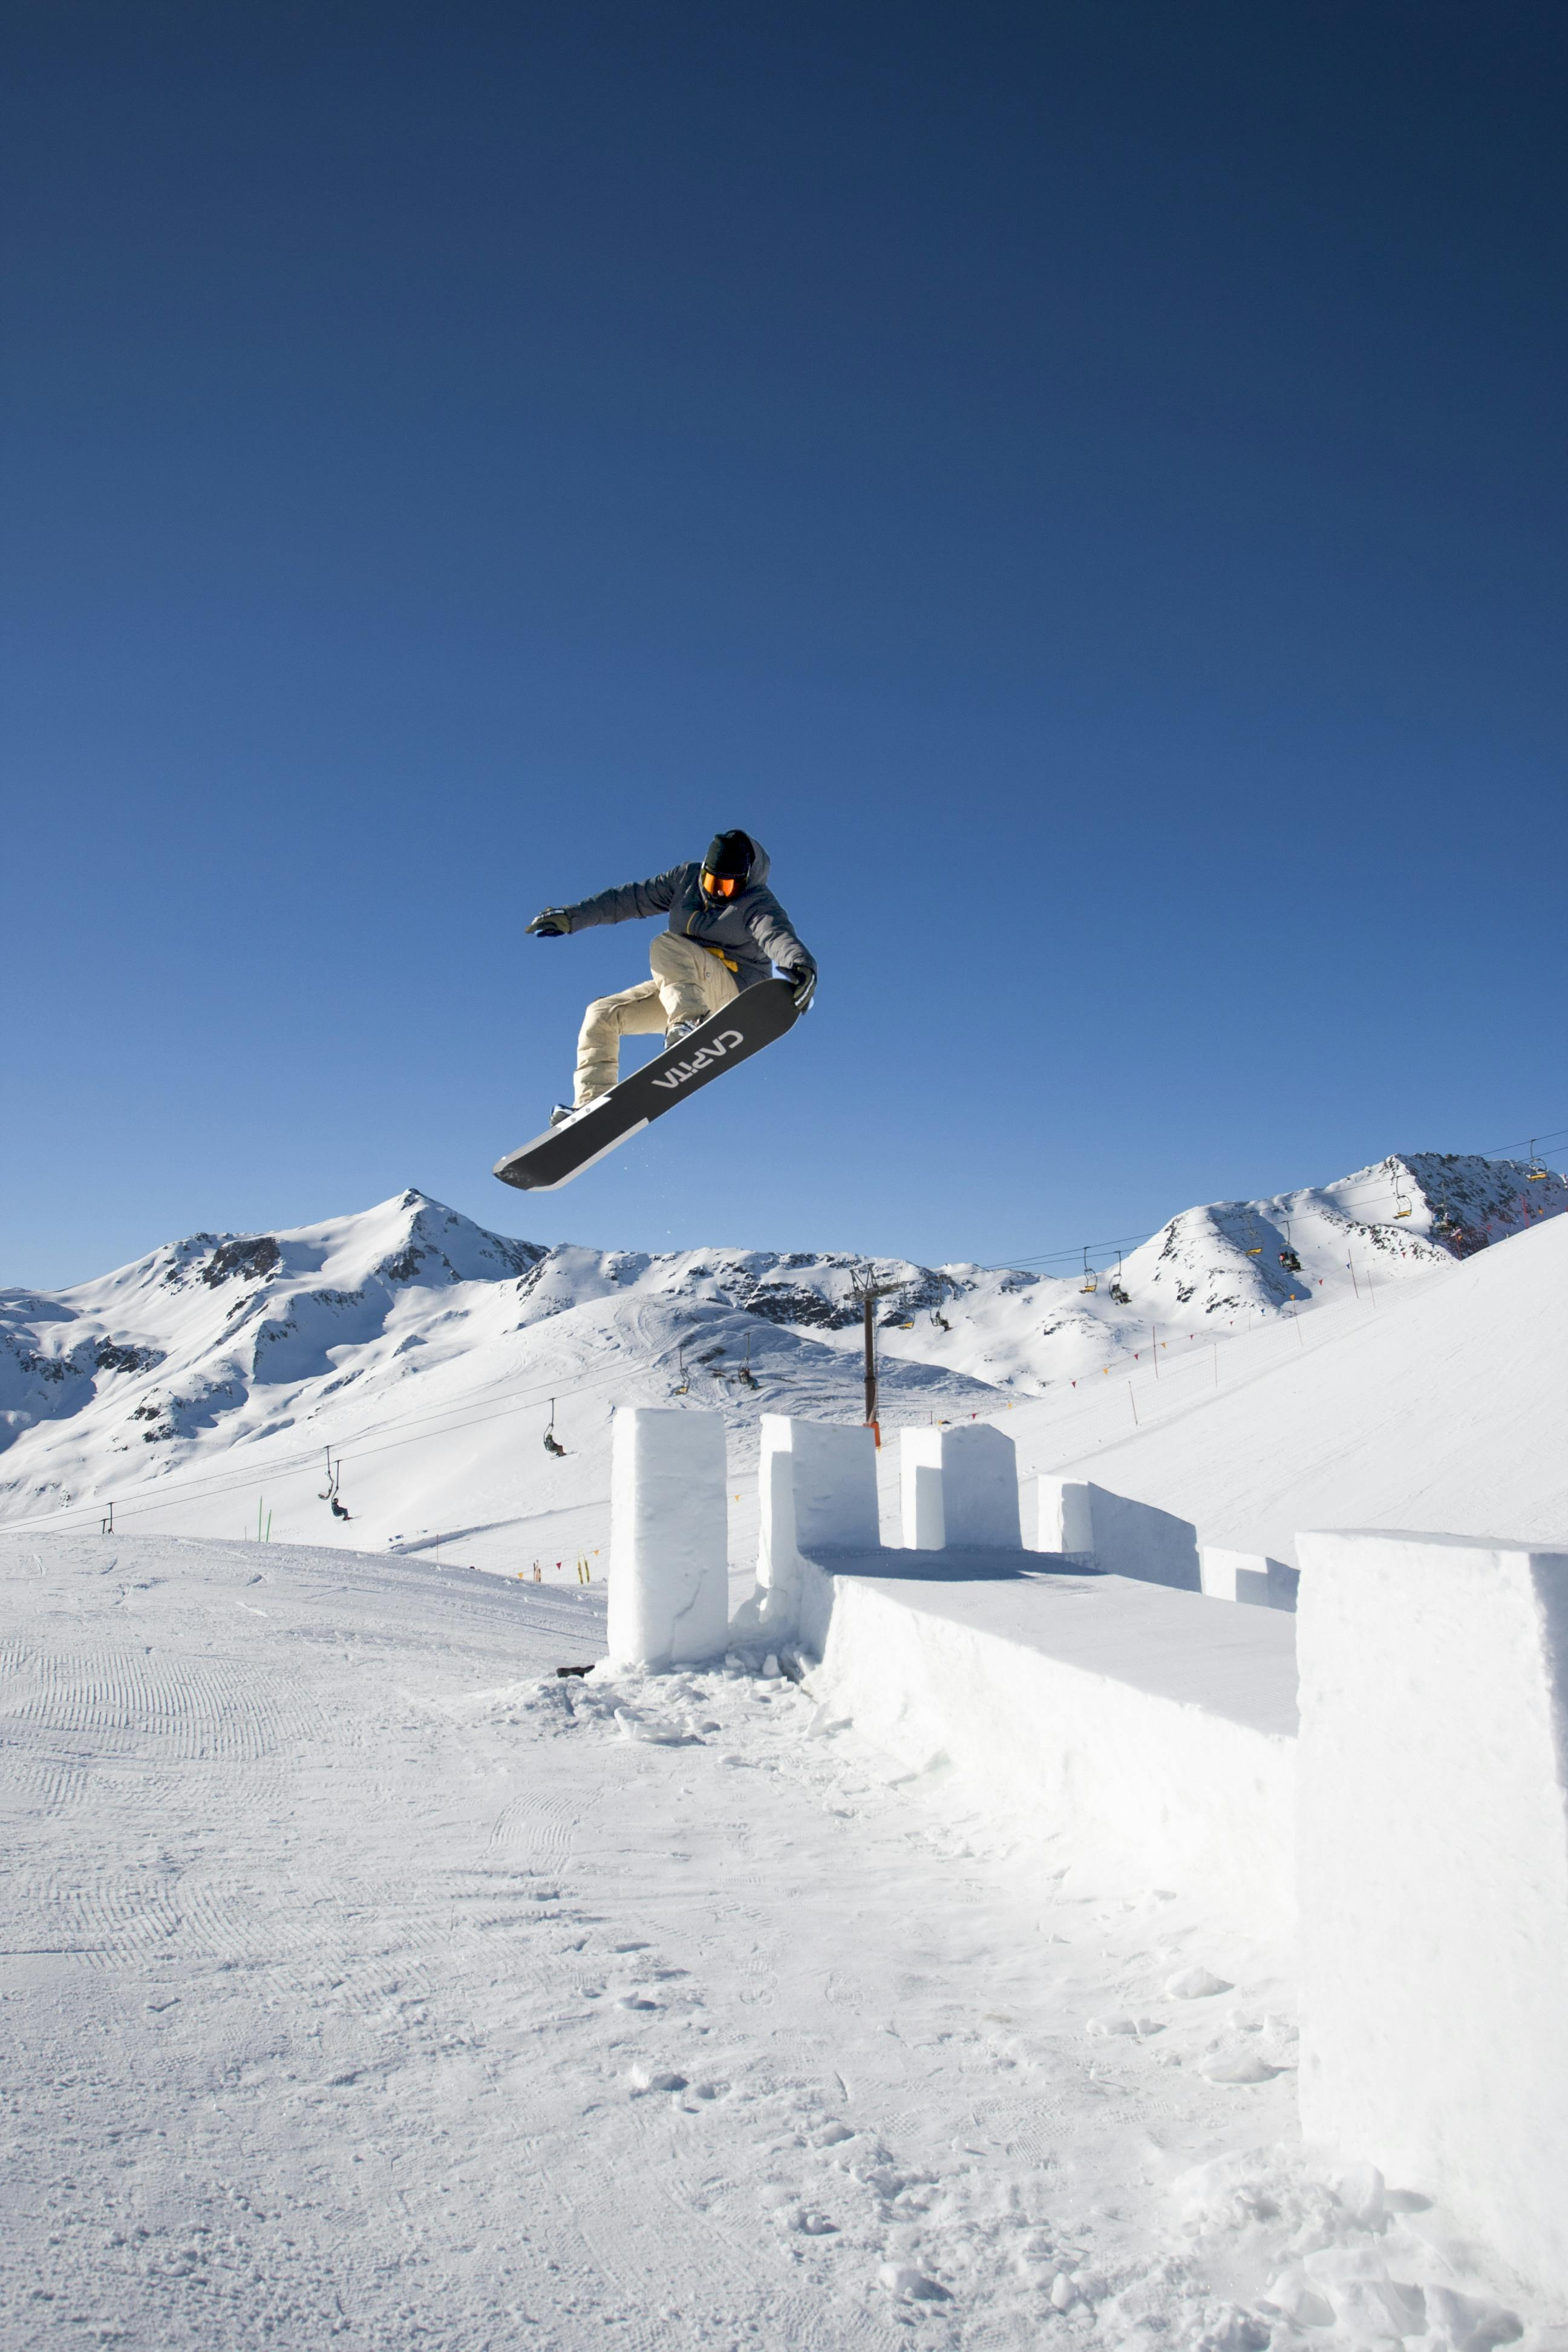snowboarder: (481, 819, 830, 1192)
